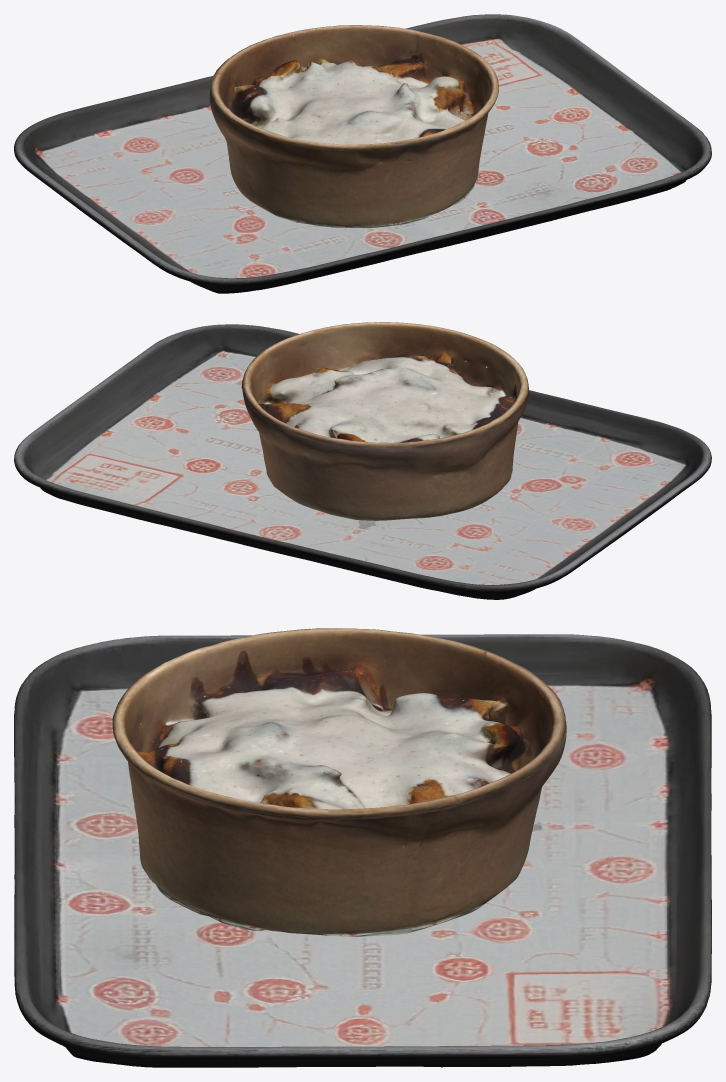
File: Tacos.bowle.L.glb
The picture shows the model from 3 angles, top to bottom: view 1: azimuth 30°, elevation 25°; view 2: azimuth 150°, elevation 25°; view 3: azimuth 270°, elevation 25°; orthographic projection. The views are drawn at different scales.
Parts seen in each view (by area): view 1: /Root/Scenes/Scene/Object_37/Object_39/Object_40/Submesh_0, /Root/Scenes/Scene/Object_37/Object_38/Submesh_0; view 2: /Root/Scenes/Scene/Object_37/Object_39/Object_40/Submesh_0, /Root/Scenes/Scene/Object_37/Object_38/Submesh_0; view 3: /Root/Scenes/Scene/Object_37/Object_39/Object_40/Submesh_0, /Root/Scenes/Scene/Object_37/Object_38/Submesh_0.
Part boxes in pixels (box(x1,y1,x2,y2)): /Root/Scenes/Scene/Object_37/Object_39/Object_40/Submesh_0: box(14, 14, 711, 293); /Root/Scenes/Scene/Object_37/Object_38/Submesh_0: box(209, 25, 498, 227); /Root/Scenes/Scene/Object_37/Object_39/Object_40/Submesh_0: box(14, 324, 711, 599); /Root/Scenes/Scene/Object_37/Object_38/Submesh_0: box(241, 322, 528, 520); /Root/Scenes/Scene/Object_37/Object_39/Object_40/Submesh_0: box(14, 634, 711, 1067); /Root/Scenes/Scene/Object_37/Object_38/Submesh_0: box(112, 628, 566, 936).
Bounding box in the file's own units: 0.4654 × 0.0792 × 0.3289.
Materials: 2 (2 with a texture image).
